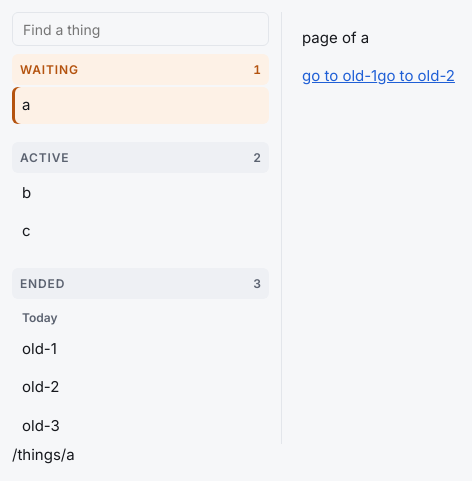
Test: in a wide column the list and the page are side by side, and no item goes to the default (replaced)
Check: the navigation bar named "Things" is shown, box [12,54,269,444]
Check: the text "page of a" is shown, box [302,28,369,47]
Click the link "b" at {"x": 27, "y": 192}, box [22,182,31,202]
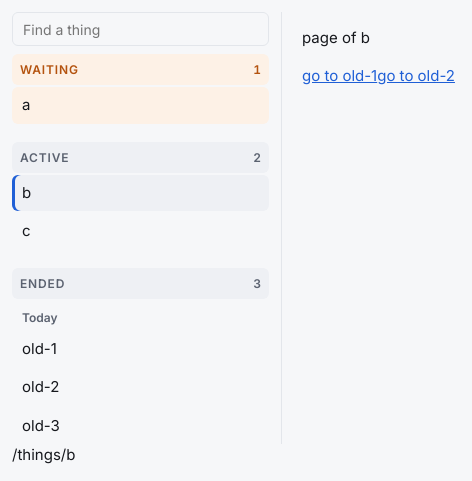
Check: the navigation bar named "Things" is shown, box [12,54,269,444]
Check: the text named "Address" reads "/things/b", box [12,445,75,464]
